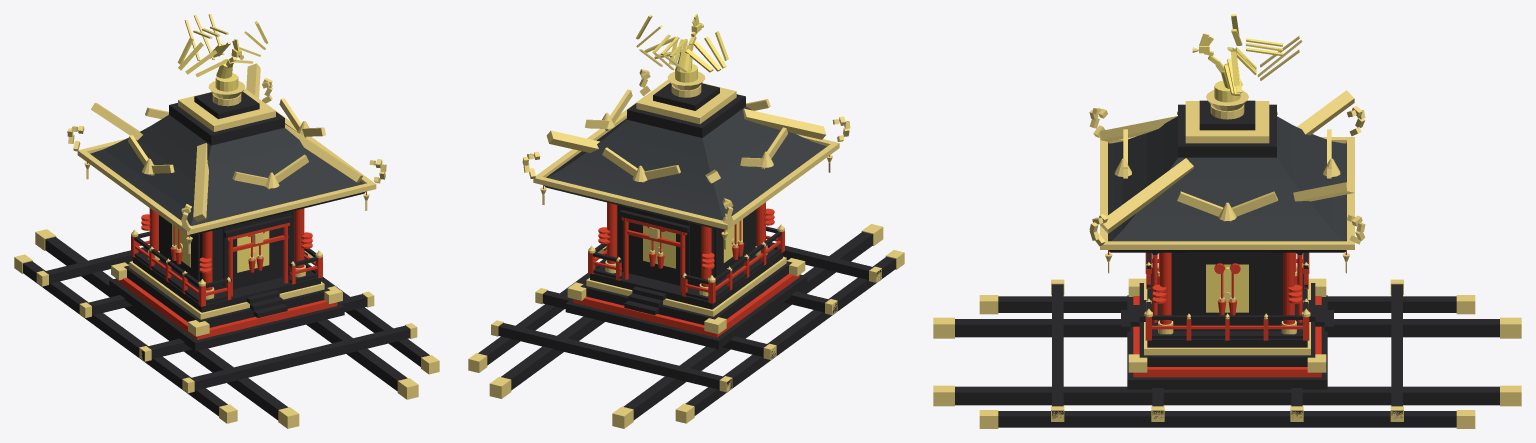
The model's file is matsuri_mikoshi.glb.
3 renders of one model, left to right at view 1: azimuth 30°, elevation 25°; view 2: azimuth 150°, elevation 25°; view 3: azimuth 270°, elevation 25°, orthographic. The views are drawn at different scales.
Parts seen in each view (by area): view 1: CrossBeam_0, Roof_Slope_Band_4, Pole_Main_L, Pole_Outer_L, Base_Tier_0, Roof_Slope_Band_2, Roof_Slope_Band_5, Roof_Slope_Band_1, Roof_Slope_Band_3, Base_Tier_4, Base_Tier_1, Sanctum_Chamber (+23 smaller); view 2: Roof_Slope_Band_4, CrossBeam_3, Pole_Main_L, Roof_Slope_Band_2, Pole_Outer_L, Base_Tier_0, Roof_Slope_Band_5, Roof_Slope_Band_1, Roof_Slope_Band_3, Base_Tier_4, Base_Tier_1, Sanctum_Chamber (+24 smaller); view 3: Pole_Main_R, Pole_Outer_R, Pole_Main_L, Roof_Slope_Band_4, Roof_Slope_Band_3, Pole_Outer_L, Roof_Slope_Band_5, Roof_Slope_Band_2, Roof_Slope_Band_1, Base_Tier_0, Door_Panel_Left, Sanctum_Chamber (+23 smaller).
Part boxes in pixels (<box>): CrossBeam_0: <box>190,325,410,390</box>; Roof_Slope_Band_4: <box>138,126,318,184</box>; Pole_Main_L: <box>45,237,288,420</box>; Pole_Outer_L: <box>23,261,227,416</box>; Base_Tier_0: <box>109,278,344,351</box>; Roof_Slope_Band_2: <box>104,143,348,214</box>; Roof_Slope_Band_5: <box>151,115,300,165</box>; Roof_Slope_Band_1: <box>93,149,360,224</box>; Roof_Slope_Band_3: <box>117,137,335,199</box>; Base_Tier_4: <box>133,252,320,312</box>; Base_Tier_1: <box>116,277,337,339</box>; Sanctum_Chamber: <box>159,211,294,290</box>; Roof_Slope_Band_4: <box>595,123,779,178</box>; CrossBeam_3: <box>498,323,731,389</box>; Pole_Main_L: <box>623,231,872,420</box>; Roof_Slope_Band_2: <box>560,134,812,209</box>; Pole_Outer_L: <box>685,256,895,415</box>; Base_Tier_0: <box>565,274,807,349</box>; Roof_Slope_Band_5: <box>609,106,756,159</box>; Roof_Slope_Band_1: <box>549,120,823,218</box>; Roof_Slope_Band_3: <box>573,130,799,196</box>; Base_Tier_4: <box>590,248,782,309</box>; Base_Tier_1: <box>573,273,799,337</box>; Sanctum_Chamber: <box>617,205,756,286</box>; Pole_Main_R: <box>955,386,1499,405</box>; Pole_Outer_R: <box>998,411,1456,427</box>; Pole_Main_L: <box>955,319,1499,337</box>; Roof_Slope_Band_4: <box>1147,125,1307,199</box>; Roof_Slope_Band_3: <box>1133,133,1321,217</box>; Pole_Outer_L: <box>998,296,1456,312</box>; Roof_Slope_Band_5: <box>1162,116,1292,179</box>; Roof_Slope_Band_2: <box>1122,138,1332,229</box>; Roof_Slope_Band_1: <box>1113,141,1341,239</box>; Base_Tier_0: <box>1127,295,1327,389</box>; Door_Panel_Left: <box>1189,252,1265,323</box>; Sanctum_Chamber: <box>1171,252,1283,330</box>.
Size of the model in its own units: 1.02 by 1.23 by 1.95.
